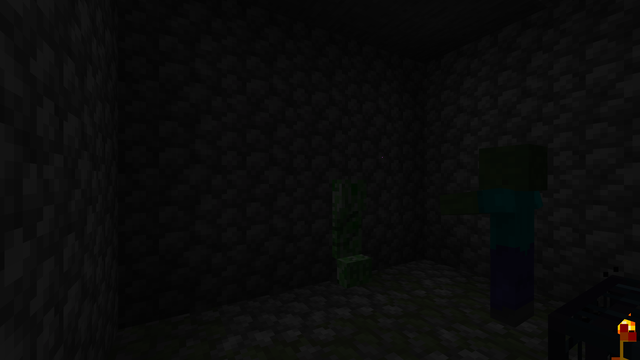creepers: (327, 174, 370, 286)
zombies: (472, 147, 555, 336)
